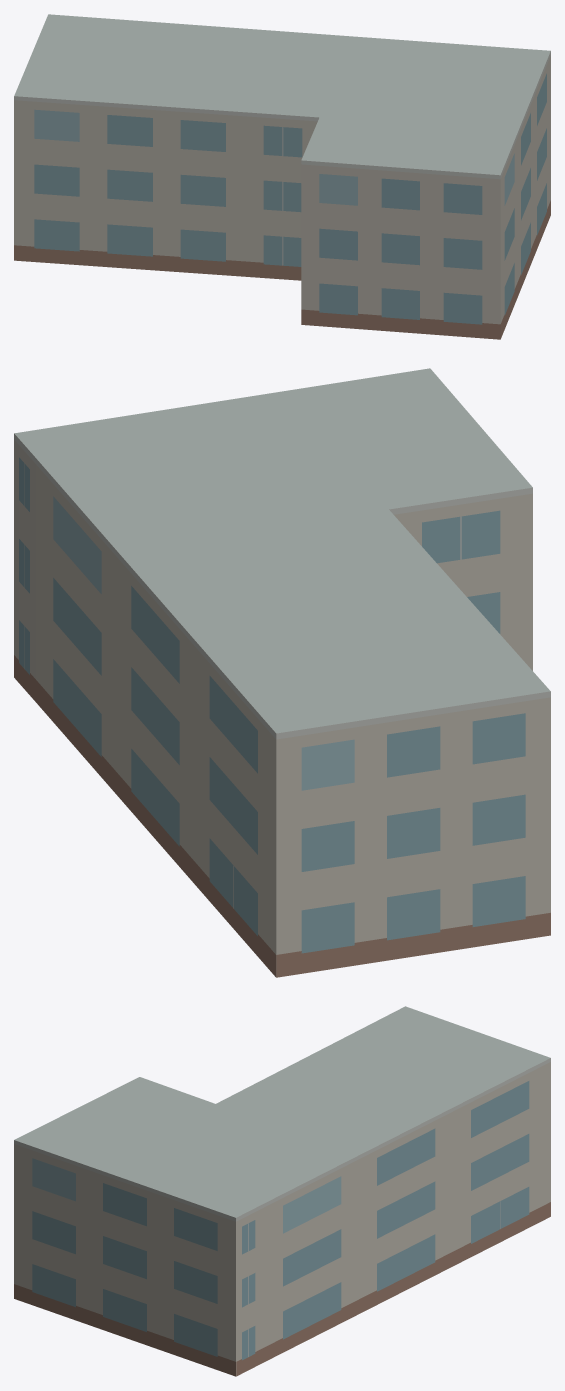
The model's file is survey-upis-32847660.glb.
3 renders of one model, top to bottom at view 1: azimuth 30°, elevation 25°; view 2: azimuth 150°, elevation 25°; view 3: azimuth 270°, elevation 25°, orthographic. The views are drawn at different scales.
Visible parts, largest first — view 1: survey-upis-32847660.tmp; view 2: survey-upis-32847660.tmp; view 3: survey-upis-32847660.tmp.
Part boxes in pixels (bbox=[...]): survey-upis-32847660.tmp: bbox=[14, 14, 550, 339]; survey-upis-32847660.tmp: bbox=[14, 368, 550, 977]; survey-upis-32847660.tmp: bbox=[14, 1006, 550, 1376].
Size of the model in its own units: 28.31 by 9.9 by 30.35.
